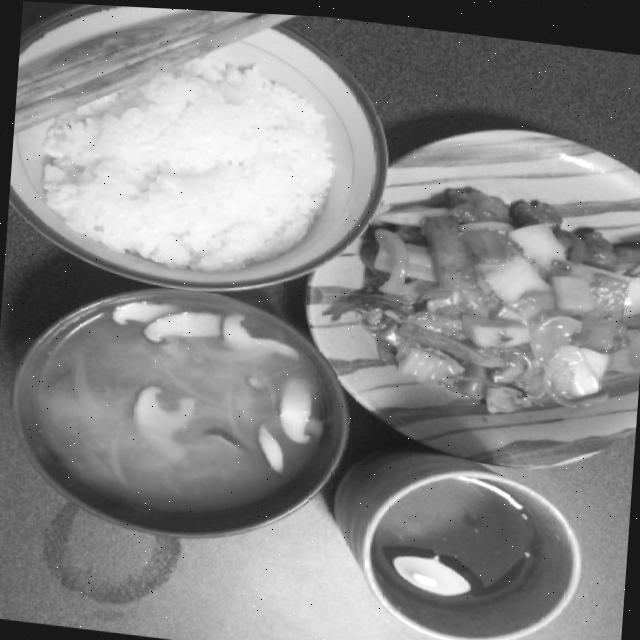汤锅炖物: (0, 257, 374, 591)
米饭主食: (2, 0, 422, 327)
蔬菜料理: (281, 88, 640, 489)
